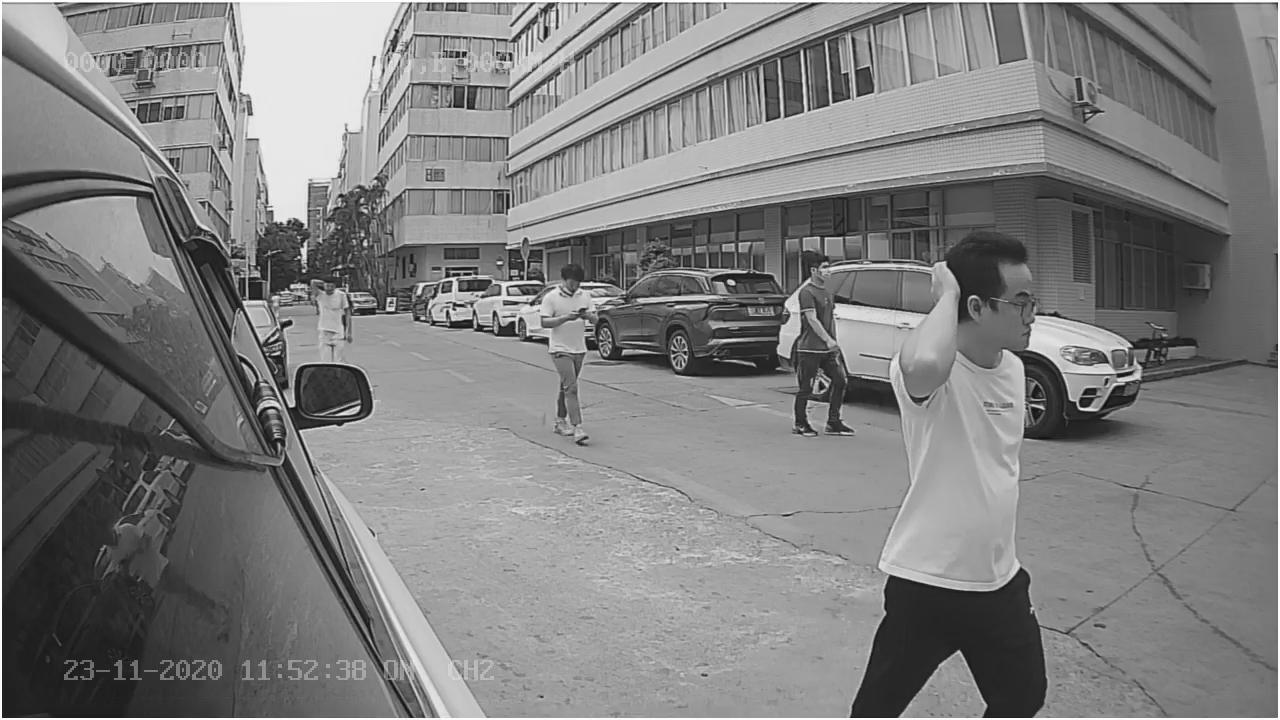person: (889, 242, 1039, 683), (544, 251, 597, 451)
